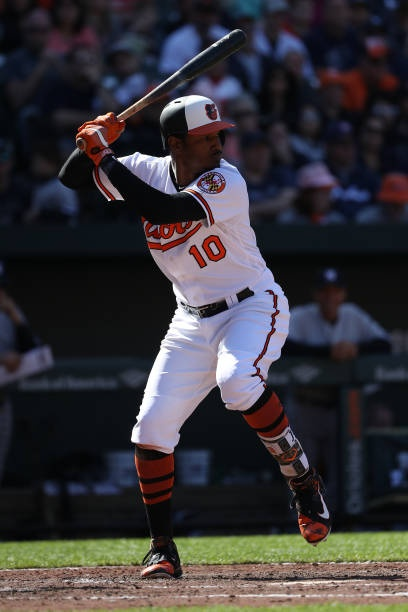bita: (79, 30, 250, 150)
